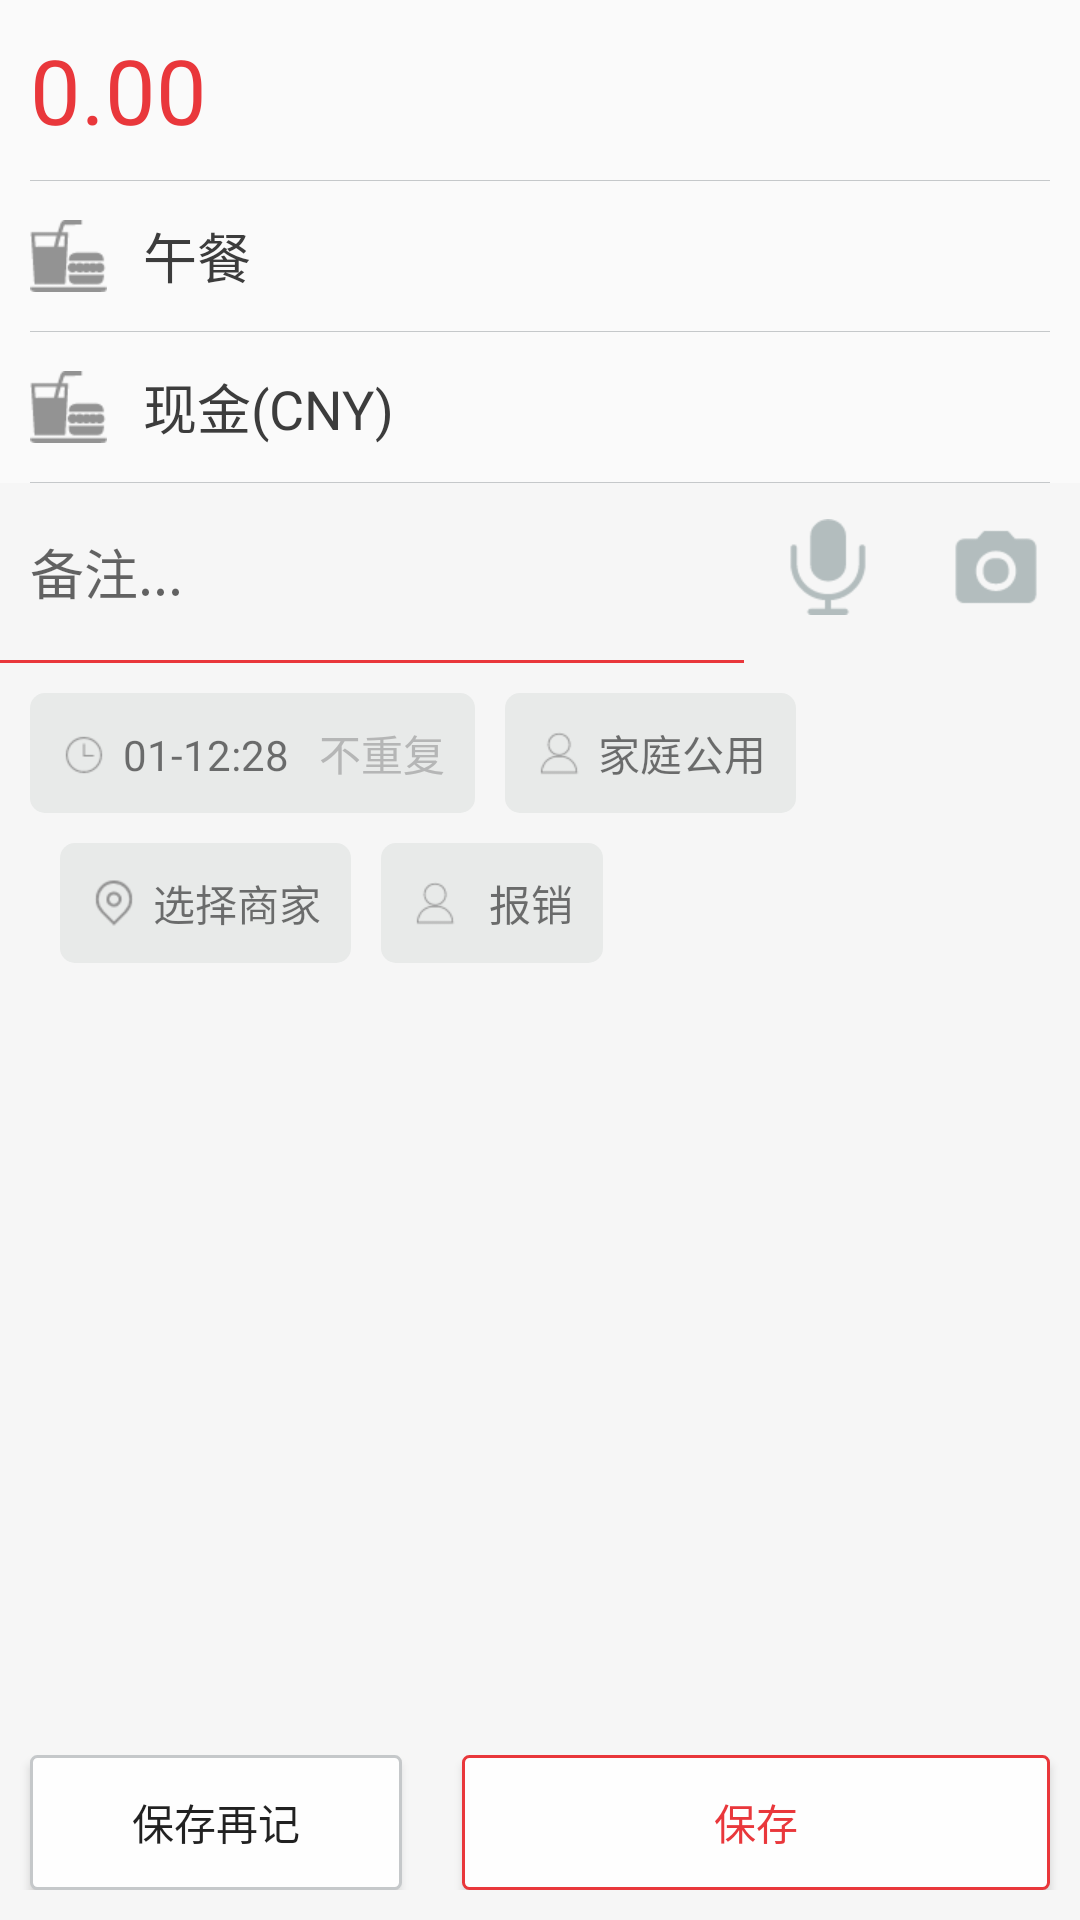

Screen size 1080*1920. Icon name, then its center in pixels as (x=x, y=y):
day camar: (x=996, y=567)
day yuying: (x=828, y=567)
